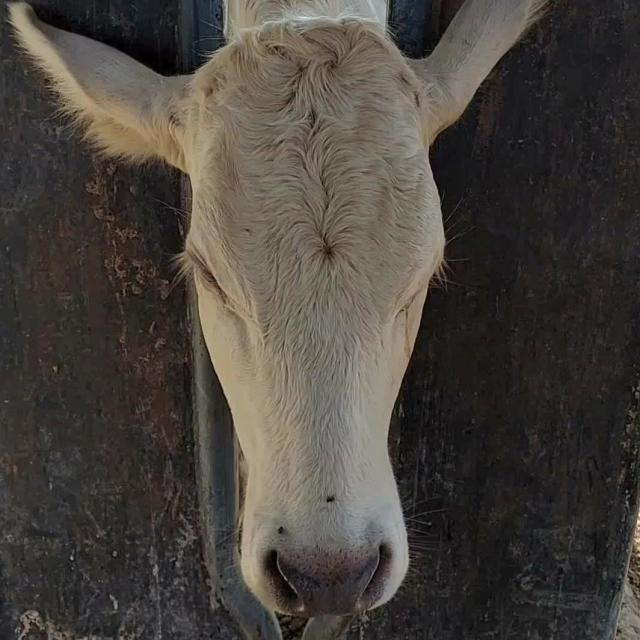cowFace: (189, 23, 445, 611)
